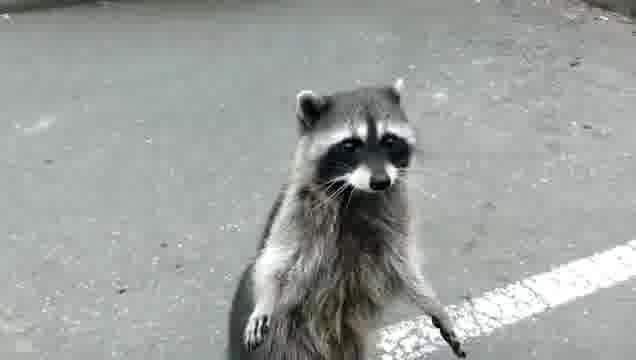raccoon: (223, 80, 470, 360)
